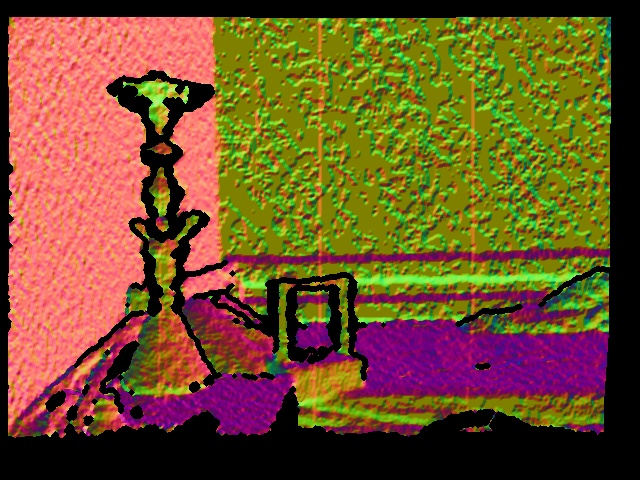station: (263, 273, 371, 409)
